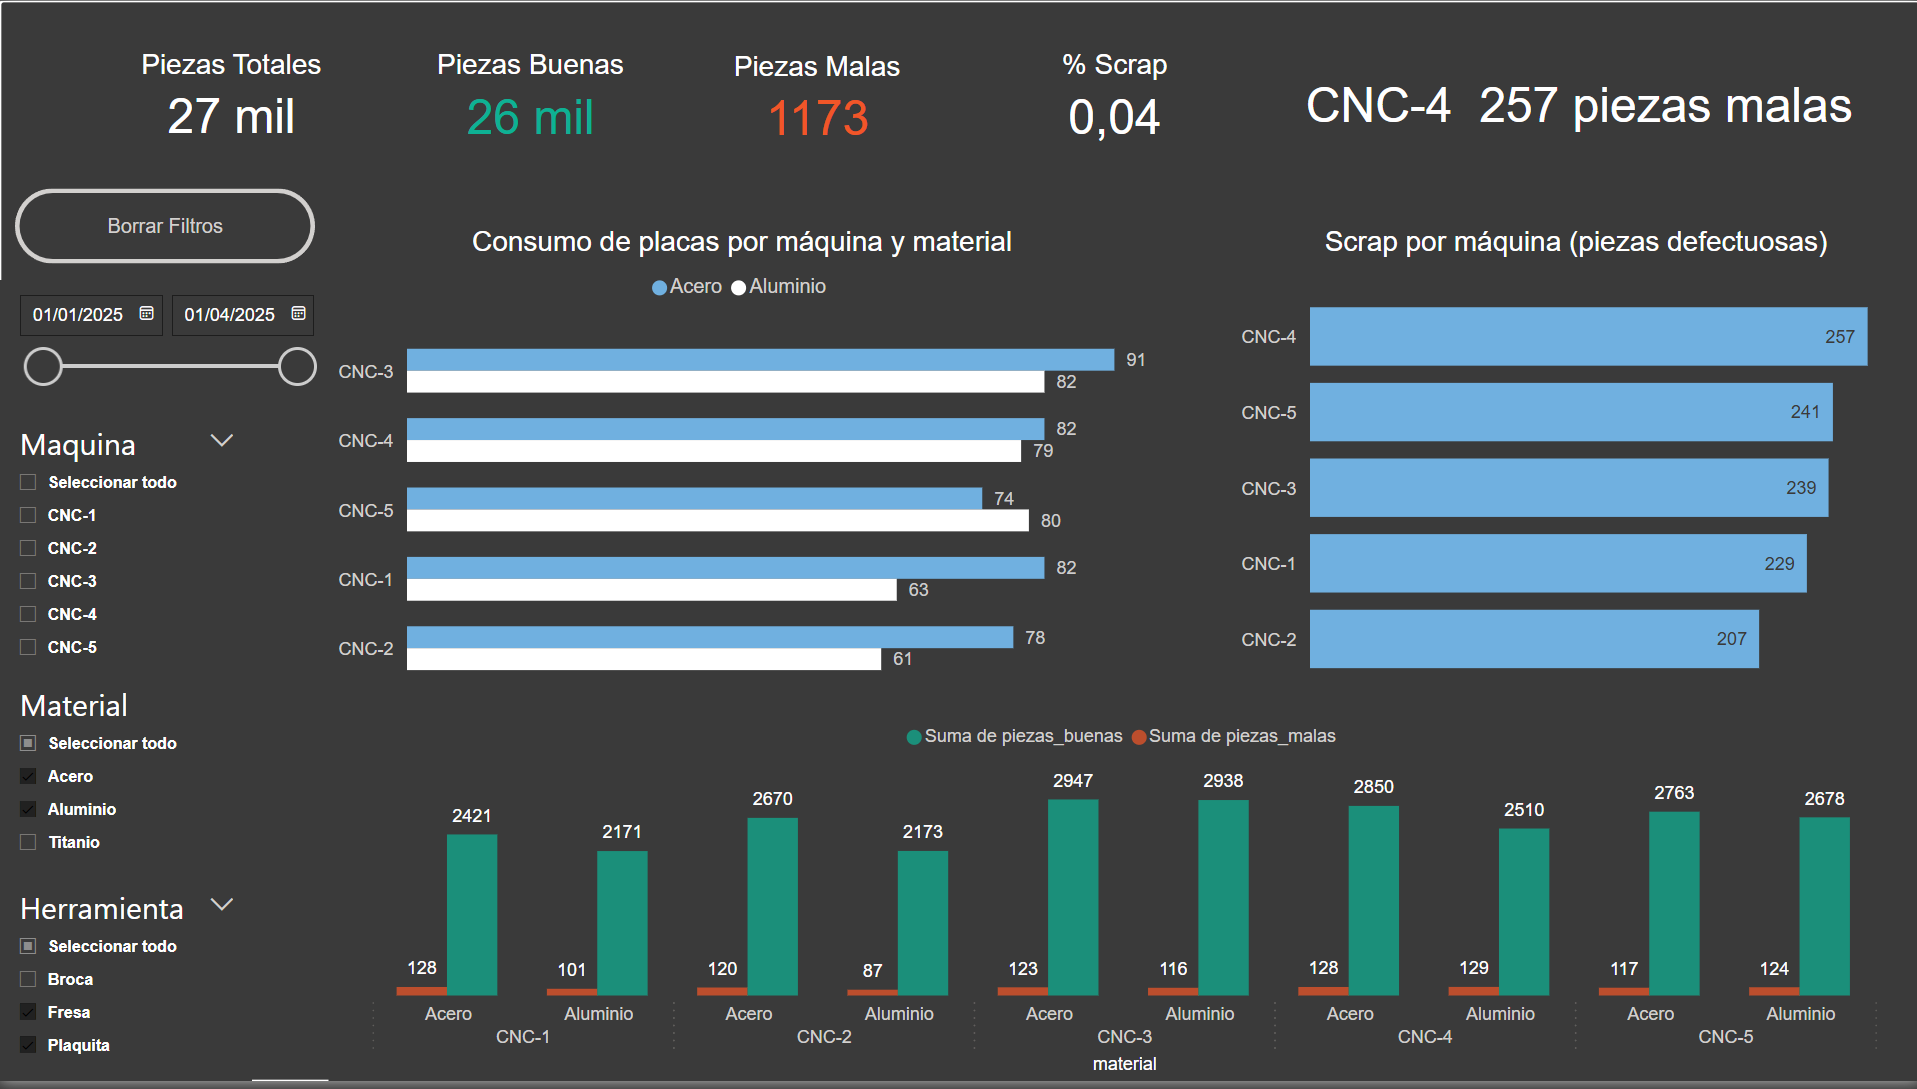

The page's visual inventory and layout, read from the dashboard file:
{"tool":"powerbi","page":{"name":"Página 1","canvas":[1280,720],"ordinal":0},"visuals":[{"type":"clusteredColumnChart","fields":{"Category":["dim_maquinas.nombre_maquina","dim_piezas.material"],"Y":["Sum(fact_produccion.piezas_buenas)","Sum(fact_produccion.piezas_malas)"]},"box":[219,471,1061,249],"z":0},{"type":"slicer","title":"Tipo de herramienta","fields":{"Values":["dim_herramientas.tipo_herramienta"]},"box":[10,471,168,64],"z":1000},{"type":"slicer","title":"Nombre de maquina","fields":{"Values":["dim_maquinas.nombre_maquina"]},"box":[10,276,168,78],"z":2000},{"type":"slicer","fields":{"Values":["dim_piezas.material"]},"box":[10,370,168,72],"z":3000},{"type":"actionButton","box":[10,125,200,50],"z":4000},{"type":"card","title":"Piezas Totales","fields":{"Values":["fact_produccion.Piezas Totales"]},"box":[56.7,31.5,194.5,67.7],"z":5000},{"type":"card","title":"Piezas Buenas","fields":{"Values":["Sum(fact_produccion.piezas_buenas)"]},"box":[251,32,205,67.7],"z":6000},{"type":"card","title":"Piezas Malas","fields":{"Values":["Sum(fact_produccion.piezas_malas)"]},"box":[455.9,32.6,177.4,67],"z":7000},{"type":"card","title":"% Scrap","fields":{"Values":["fact_produccion.Scrap %"]},"box":[633.3,32,220.1,67.7],"z":8000},{"type":"barChart","title":"Scrap por máquina (piezas defectuosas)","fields":{"Category":["dim_maquinas.nombre_maquina"],"Y":["fact_produccion.Scrap por pieza"]},"box":[821,150,459,321],"z":9000},{"type":"clusteredBarChart","title":"Consumo de placas por máquina y material","fields":{"Y":["Sum(fact_produccion.placas_usadas)"],"Category":["dim_maquinas.nombre_maquina"],"Series":["dim_piezas.material"]},"box":[219,150,551,321],"z":10000},{"type":"card","title":"Maquina con mas Scrap","fields":{"Values":["fact_produccion.Máquina con más scrap"]},"box":[853,33,399,70],"z":11000},{"type":"slicer","fields":{"Values":["fact_produccion.fecha"]},"box":[0,186,219,90],"z":12000}]}

Visuals, with their boxes in screenshot pixels (x1, y1, x2, y2), scaled from the page's 1280x720 canvas onto the 1917x1089 screenshot:
clusteredColumnChart - dim_maquinas.nombre_maquina x dim_piezas.material: bbox=[328, 712, 1916, 1088]
"Tipo de herramienta" slicer: bbox=[15, 712, 267, 809]
"Nombre de maquina" slicer: bbox=[15, 417, 267, 535]
slicer - dim_piezas.material: bbox=[15, 560, 267, 669]
actionButton: bbox=[15, 189, 315, 265]
"Piezas Totales" card: bbox=[85, 48, 376, 150]
"Piezas Buenas" card: bbox=[376, 48, 683, 151]
"Piezas Malas" card: bbox=[683, 49, 948, 151]
"% Scrap" card: bbox=[948, 48, 1278, 151]
"Scrap por máquina (piezas defectuosas)" barChart: bbox=[1230, 227, 1916, 712]
"Consumo de placas por máquina y material" clusteredBarChart: bbox=[328, 227, 1153, 712]
"Maquina con mas Scrap" card: bbox=[1278, 50, 1875, 156]
slicer - fact_produccion.fecha: bbox=[0, 281, 328, 417]
